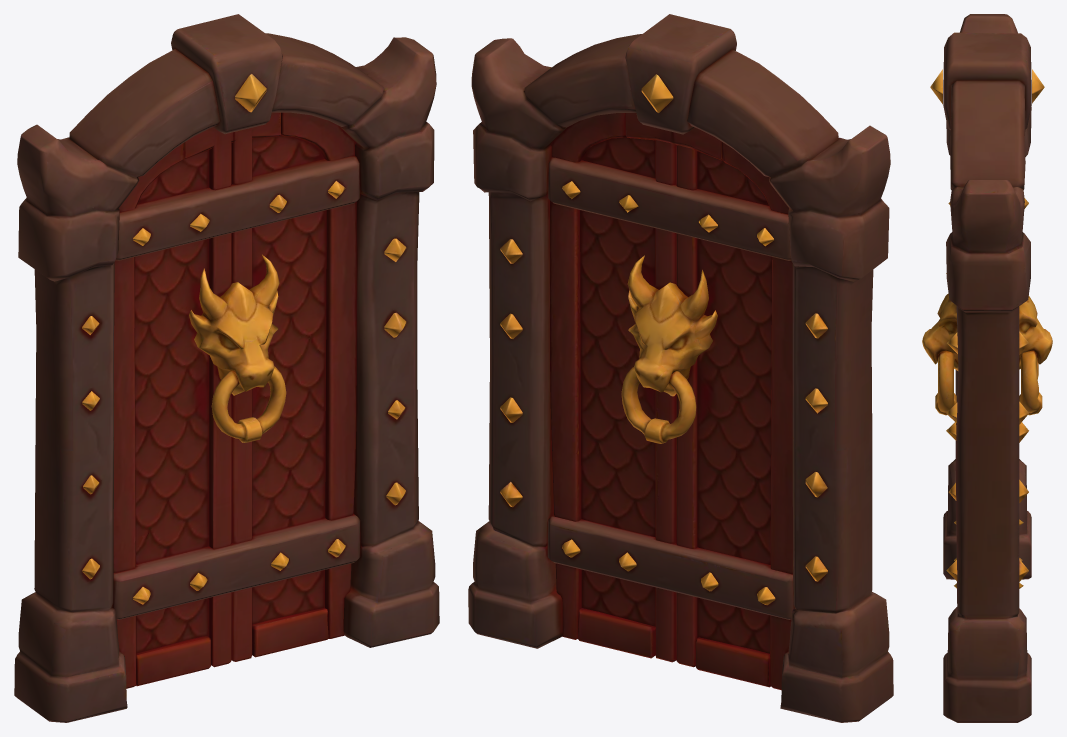
File: porte_dragon.glb
The picture shows the model from 3 angles, left to right: view 1: azimuth 30°, elevation 25°; view 2: azimuth 150°, elevation 25°; view 3: azimuth 270°, elevation 25°; orthographic projection. The views are drawn at different scales.
Visible parts, largest first — view 1: geometry_0; view 2: geometry_0; view 3: geometry_0.
Boxes of the visible parts, left/top/right/bottom form: geometry_0: left=14, top=14, right=439, bottom=722; geometry_0: left=468, top=14, right=893, bottom=722; geometry_0: left=922, top=14, right=1052, bottom=722.
Size of the model in its own units: 0.6275 by 0.9521 by 0.1919.
Materials: 1 (1 with a texture image).
